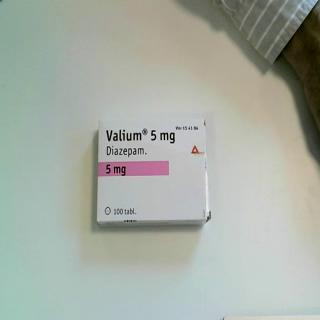valium5mg: (96, 114, 212, 230)
